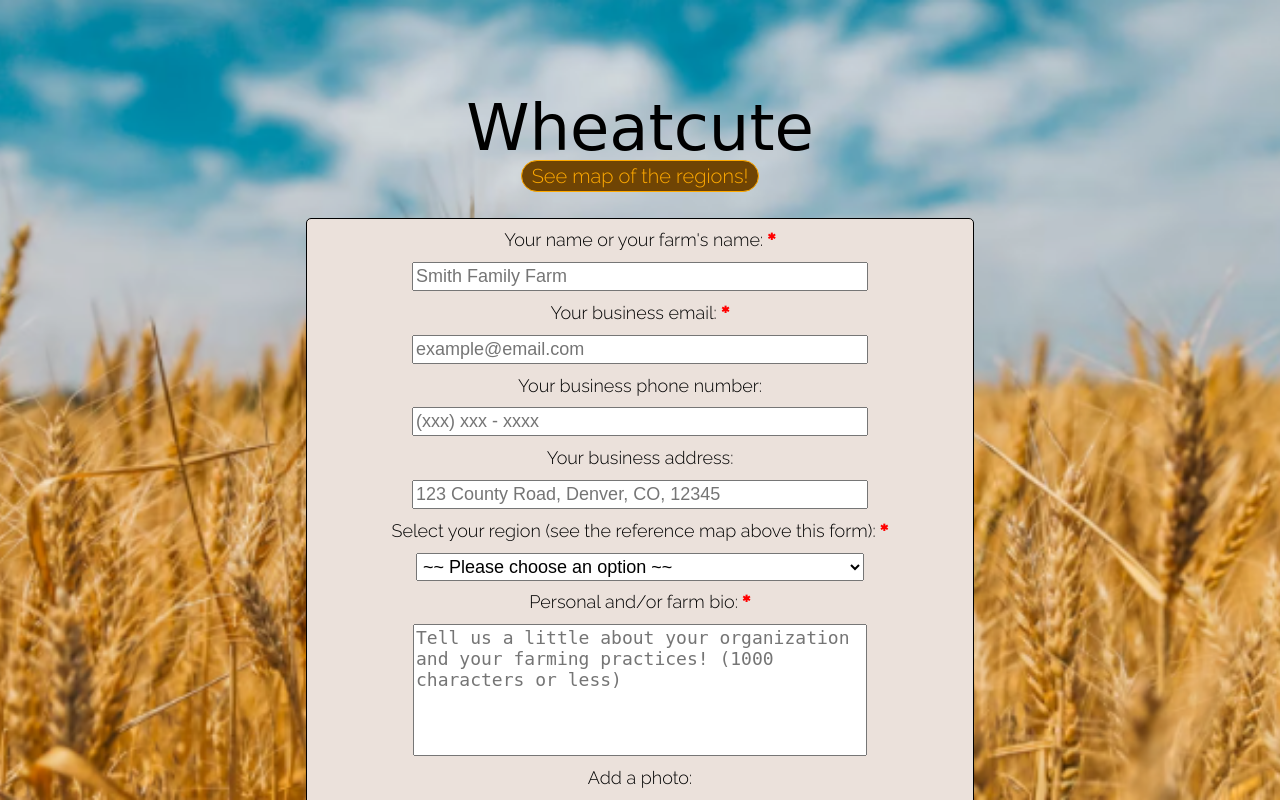
Test: pop up modal with regions map › should be able to close the pop up modal
Click the button "See map of the regions!". click: (641, 176)
box: [521,160,760,192]
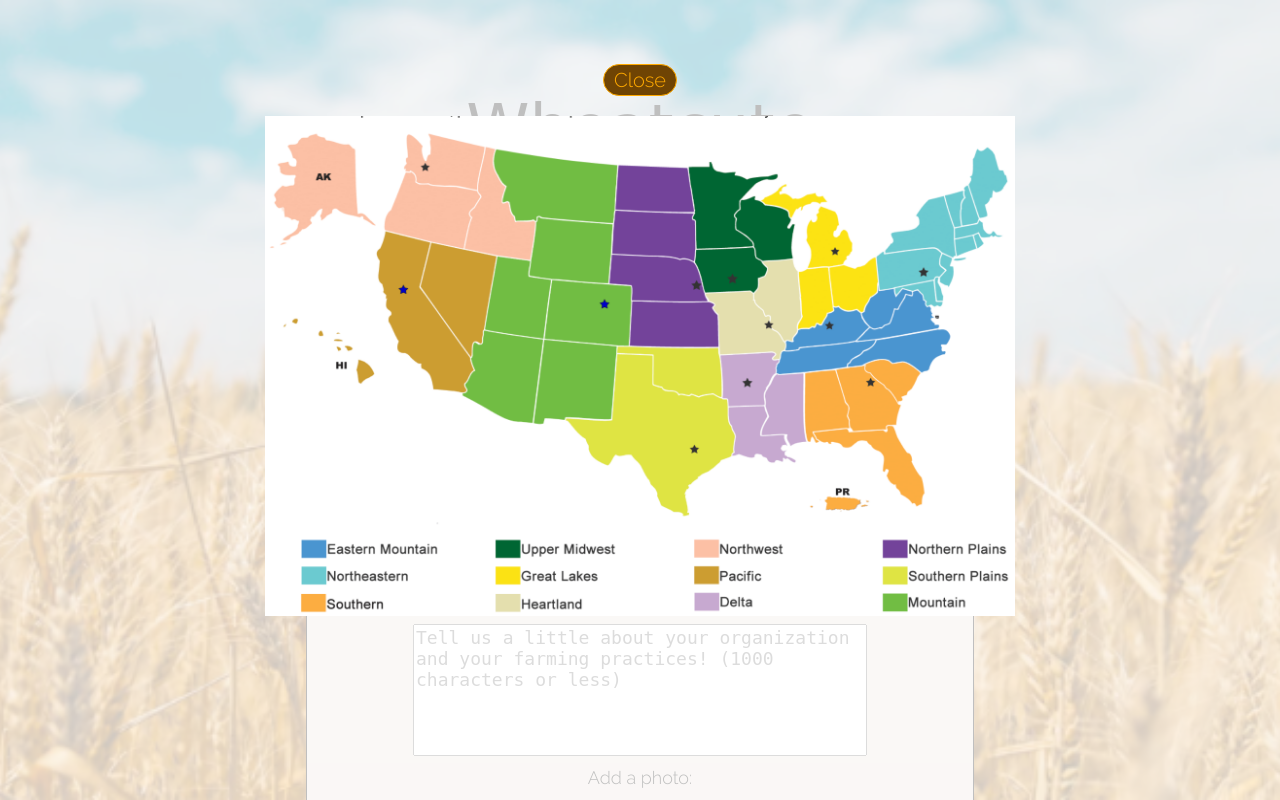
Result: the dialog with class "map-modal-container" is shown at [265,64,1015,616]
Result: the button "Close" is shown
Click the button "Close". click: (640, 80)
box: [603,64,677,96]
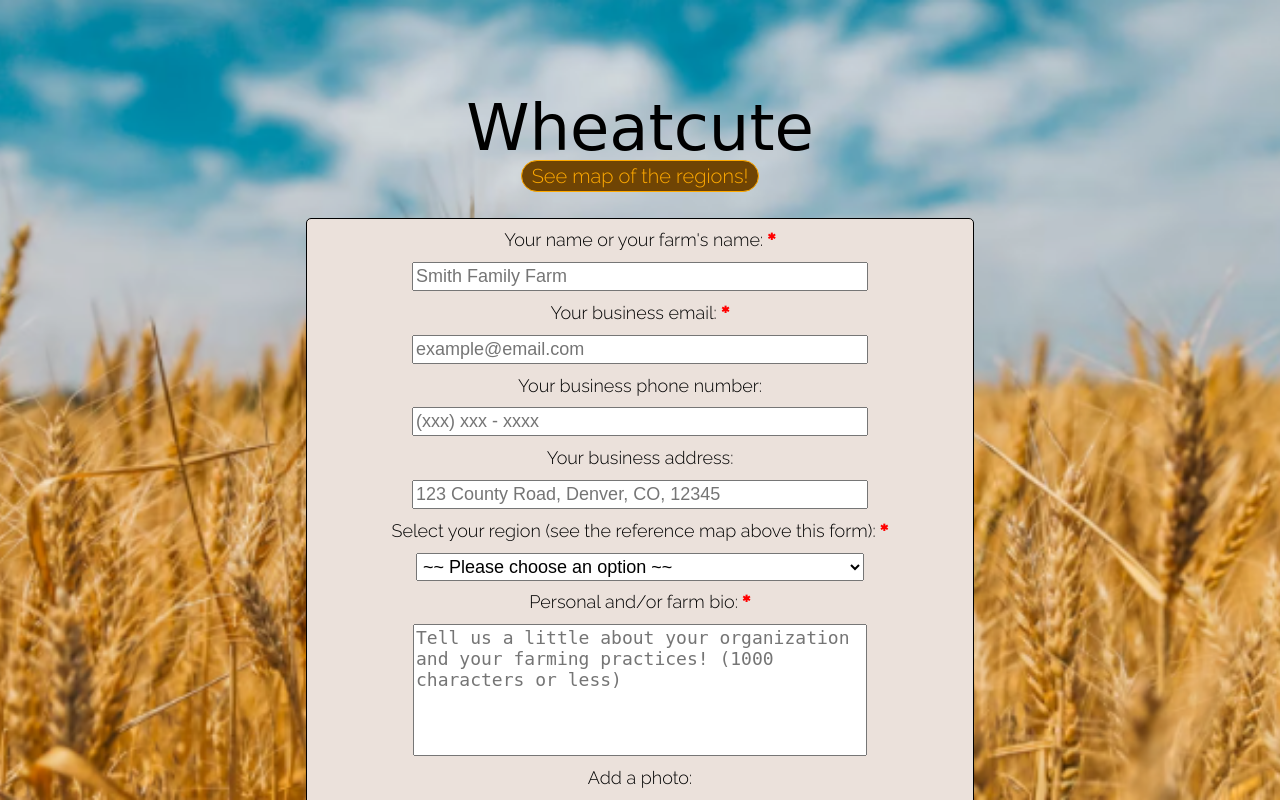
Result: the dialog with class "map-modal-container" is gone
